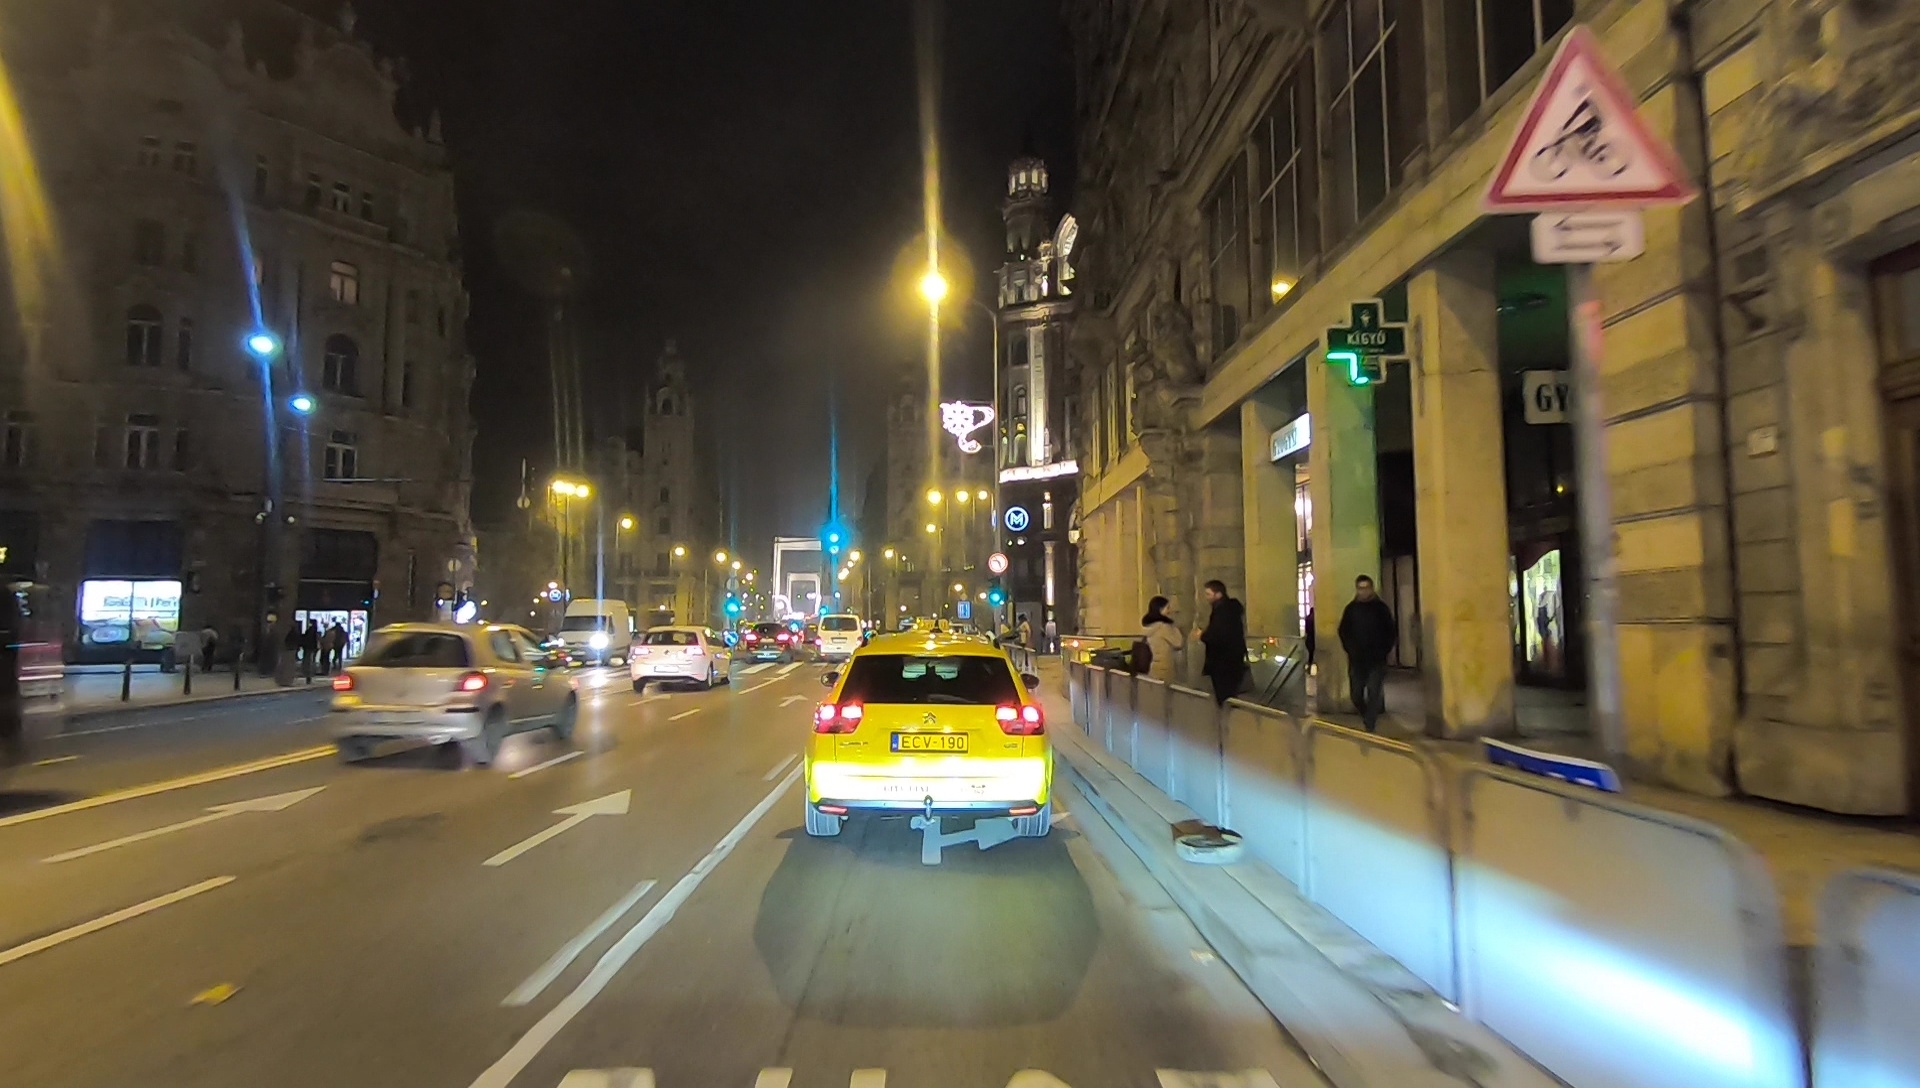person: (1199, 584, 1252, 728), (1343, 580, 1393, 730), (1137, 598, 1187, 724), (283, 618, 302, 682), (303, 618, 318, 682), (1014, 615, 1031, 667), (200, 625, 217, 677), (333, 622, 349, 671), (320, 619, 333, 674)
